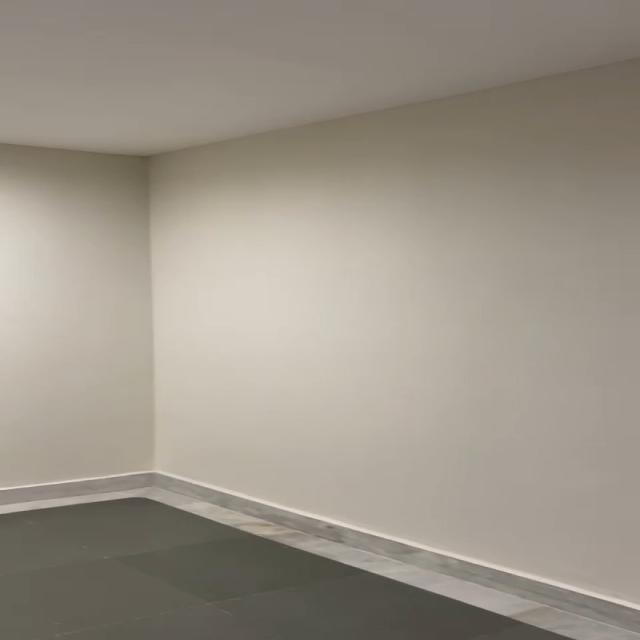floor: (6, 506, 244, 640), (251, 538, 444, 640)
wall: (165, 104, 640, 486), (0, 151, 161, 473)
